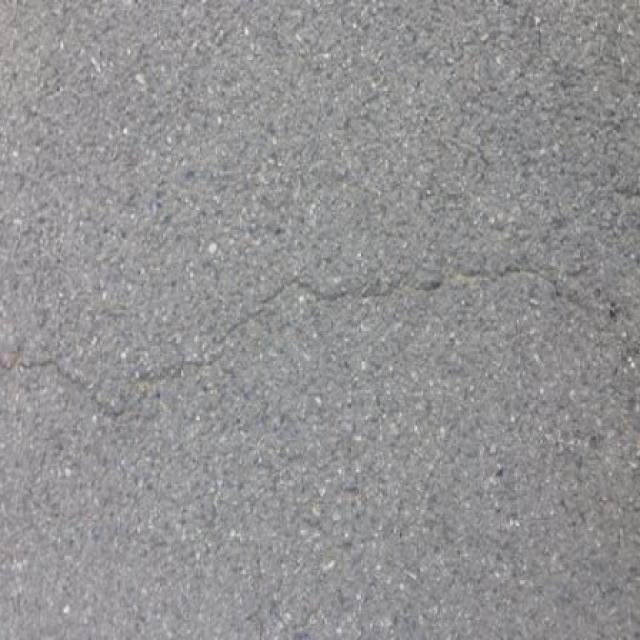Alligator Crack: (0, 261, 638, 431)
